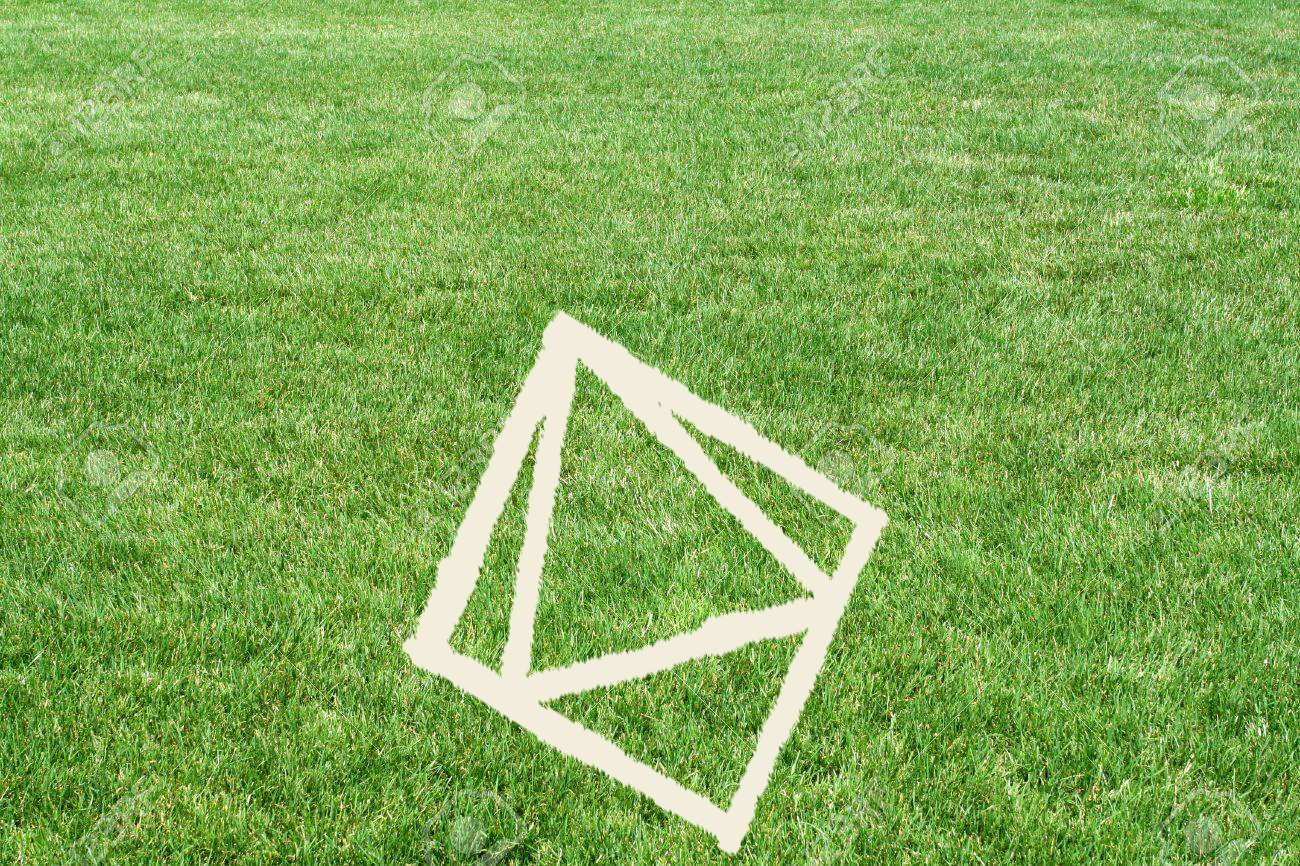marker: (398, 298, 897, 865)
